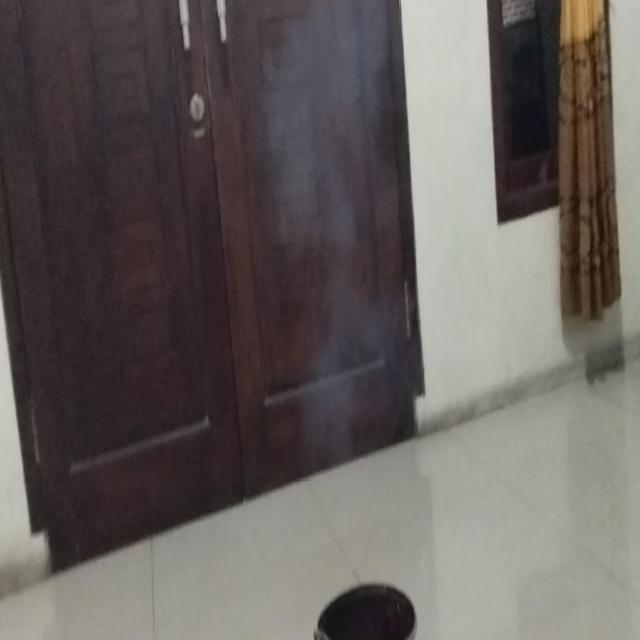fire: (261, 0, 374, 250), (296, 278, 408, 460)
